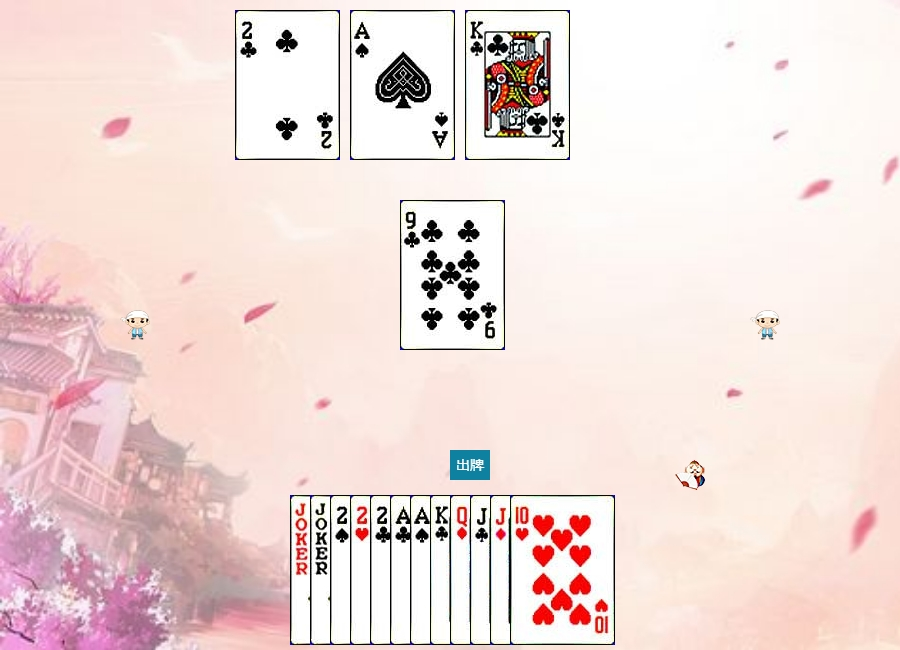10~3: (510, 495, 615, 645)
11~1: (490, 495, 595, 645)
11~2: (470, 495, 575, 645)
12~1: (450, 495, 555, 645)
13~2: (465, 10, 570, 160), (430, 495, 535, 645)
14~2: (390, 495, 495, 645)
14~4: (350, 10, 455, 160), (410, 495, 515, 645)
15~2: (235, 10, 340, 160), (370, 495, 475, 645)
15~3: (350, 495, 455, 645)
15~4: (330, 495, 435, 645)
17~3: (310, 495, 415, 645)
18~4: (290, 495, 395, 645)
9~2: (400, 200, 505, 350)
